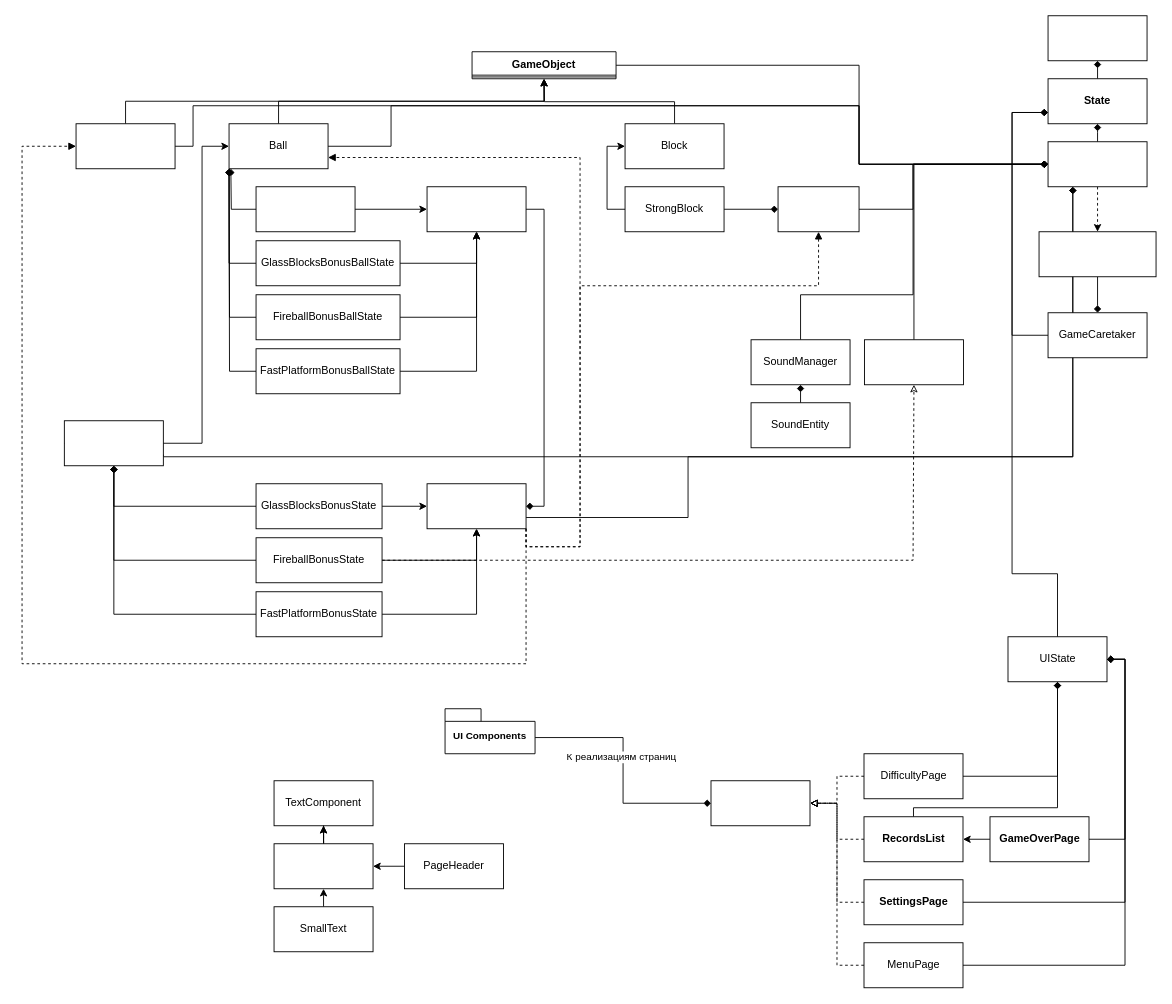
This 1172x1004 diagram has some shape labels left out. The shapes that lost their labels are listed below. From the top down, each one's box as (x1, y1, x2, y2) in pixels, then its label:
(1047, 15, 1147, 61): Application
(75, 123, 175, 169): Platform
(1047, 141, 1147, 187): GameStore
(255, 186, 355, 232): FireballBallState
(426, 186, 526, 232): BallStateBase
(777, 186, 859, 232): BlocksGrid
(1038, 231, 1156, 277): GameStoreMemento
(864, 339, 963, 385): TexturesManager
(63, 420, 163, 466): Bonus
(426, 483, 526, 529): BonusStateBase
(710, 780, 810, 826): «interface» Page
(273, 843, 373, 889): CommonText
